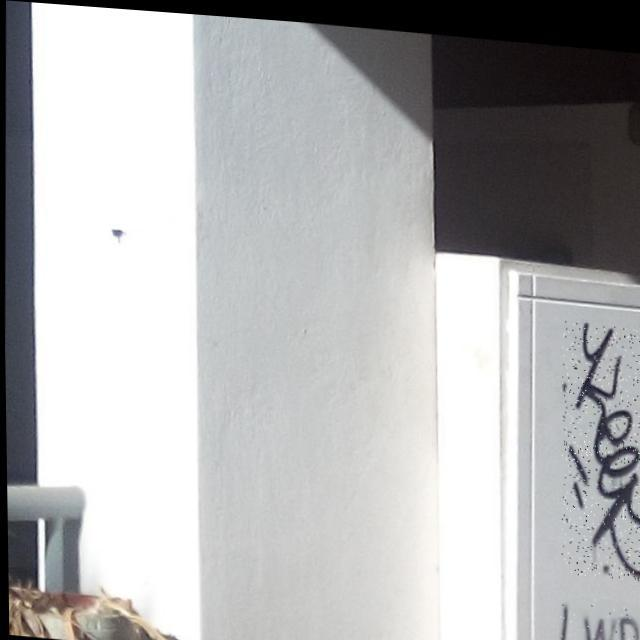-: (556, 311, 640, 570), (555, 587, 640, 640)
